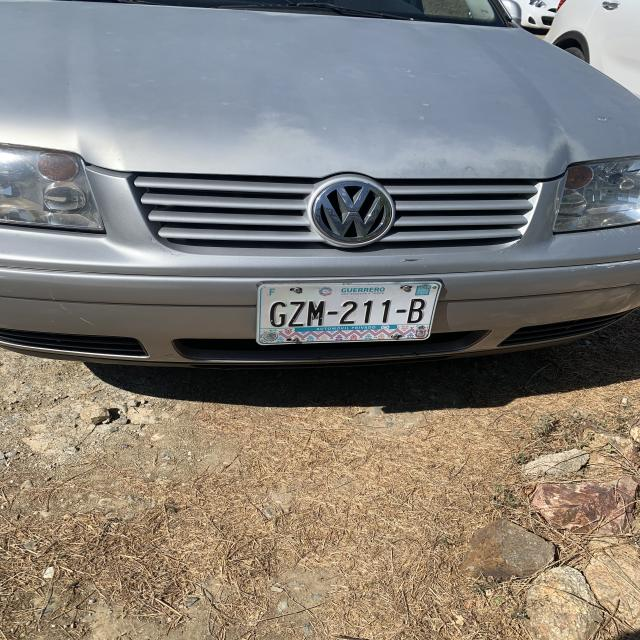placa: (256, 296, 435, 329)
